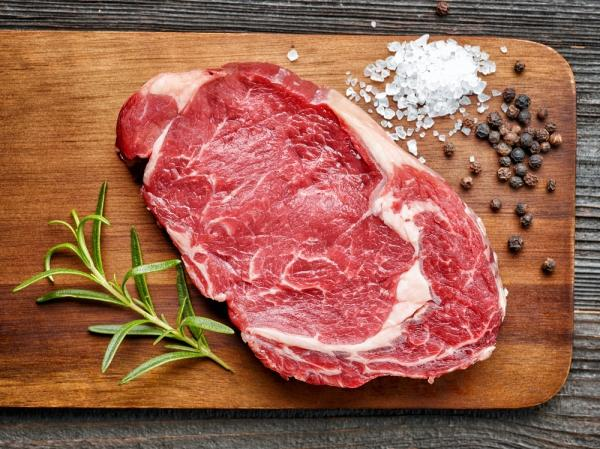beef: (107, 42, 479, 275)
